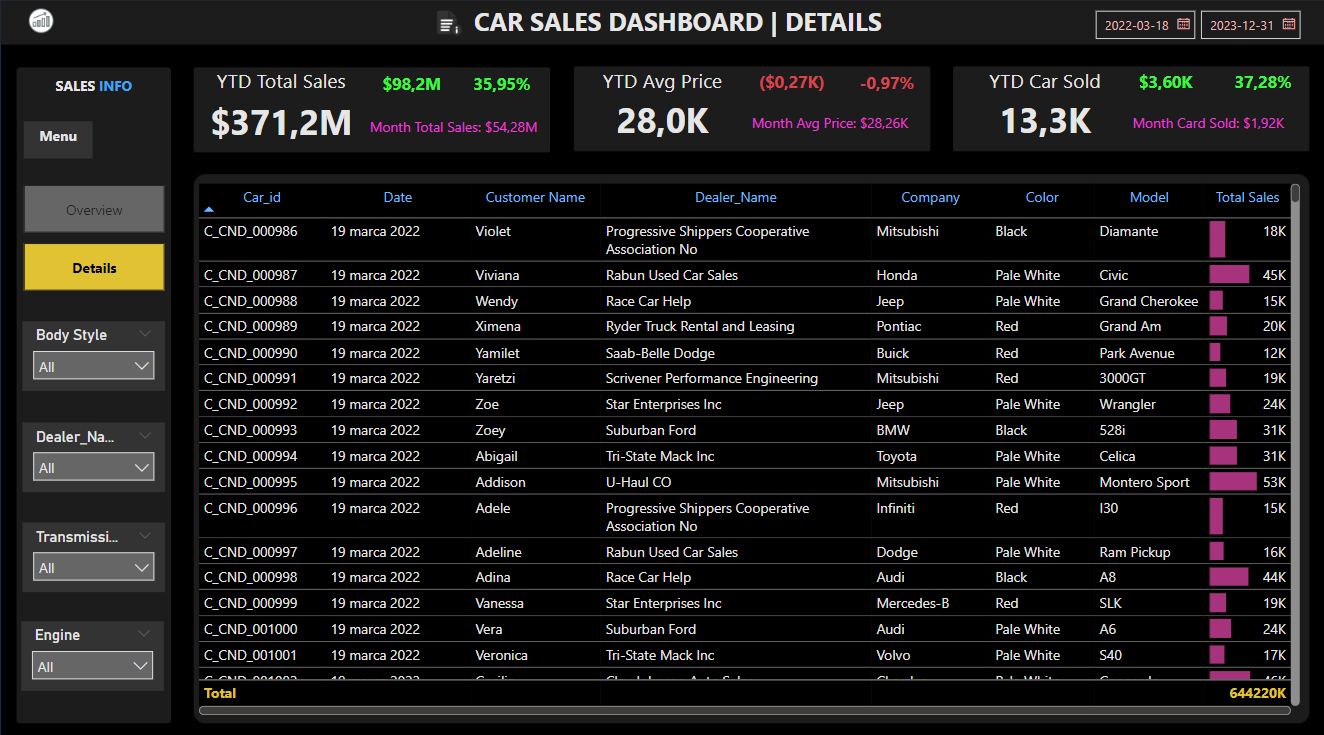

Layout of this report page (visuals, bound fields, positions):
{"tool":"powerbi","page":{"name":"Details","canvas":[1280,720],"ordinal":1},"visuals":[{"type":"card","title":"YTD Total Sales","fields":{"Values":["car_data.YTD Total Sales"]},"box":[185.8,65.1,171.3,80.8],"z":0},{"type":"card","fields":{"Values":["car_data.Sales difference"]},"box":[357.1,60.3,80.8,44.6],"z":1000},{"type":"card","fields":{"Values":["car_data.YoY Sales Growth"]},"box":[447.6,65.1,73.6,36.2],"z":2000},{"type":"card","fields":{"Values":["car_data.MTD KPI"]},"box":[346.2,103.8,183.4,42.2],"z":3000},{"type":"card","title":"YTD Avg Price","fields":{"Values":["car_data.YTD Avg Price"]},"box":[555,65.1,168.9,77.2],"z":4000},{"type":"card","fields":{"Values":["car_data.AVG Price Diff"]},"box":[723.9,59.1,80.8,44.6],"z":5000},{"type":"card","fields":{"Values":["car_data.YoY Avg Price Growth"]},"box":[819.2,63.9,73.6,36.2],"z":6000},{"type":"card","fields":{"Values":["car_data.MTD Avg Price KPI"]},"box":[709.4,100.1,183.4,42.2],"z":7000},{"type":"card","title":"YTD Car Sold","fields":{"Values":["car_data.YTD Car Sold"]},"box":[924.1,65.1,168.9,77.2],"z":8000},{"type":"card","fields":{"Values":["car_data.Car Sold Diff"]},"box":[1084.6,59.1,80.8,44.6],"z":9000},{"type":"card","fields":{"Values":["car_data.YoY Car Sold Growth"]},"box":[1178.7,59.1,80.8,44.6],"z":10000},{"type":"textbox","box":[452.5,0,438.8,52.5],"z":11000},{"type":"tableEx","fields":{"Values":["car_data.Car_id","car_data.Date","car_data.Customer Name","car_data.Dealer_Name","car_data.Company","car_data.Color","car_data.Model","car_data.Total Sales"]},"box":[186.2,172.5,1073.8,522.5],"z":12000},{"type":"card","fields":{"Values":["car_data.MTD Car Sold KPI"]},"box":[1075,100,182.5,42.5],"z":13000},{"type":"slicer","fields":{"Values":["car_data.Body Style"]},"box":[21.3,310,137.5,67.5],"z":14000},{"type":"slicer","fields":{"Values":["car_data.Dealer_Name"]},"box":[21.3,407.5,137.5,67.5],"z":15000},{"type":"slicer","fields":{"Values":["car_data.Transmission"]},"box":[21.3,503.8,137.5,67.5],"z":16000},{"type":"slicer","fields":{"Values":["car_data.Engine"]},"box":[20.2,599.2,137.5,67.5],"z":17000},{"type":"textbox","box":[22.7,116.7,66.2,36.2],"z":18000},{"type":"pageNavigator","box":[22.7,178,136.2,102.5],"z":19000},{"type":"textbox","box":[22.5,68.8,135,36.2],"z":20000},{"type":"slicer","fields":{"Values":["car_data.Date"]},"box":[1045,0,226.2,40],"z":21000},{"type":"image","box":[22.5,0,33.8,40],"z":22000},{"type":"image","box":[415,0,37.5,43.8],"z":23000}]}

Visuals, with their boxes in screenshot pixels (x1, y1, x2, y2), scaled from the page's 1280x720 canvas onto the 1324x735 screenshot:
"YTD Total Sales" card: 192, 66, 369, 149
card - car_data.Sales difference: 369, 62, 453, 107
card - car_data.YoY Sales Growth: 463, 66, 539, 103
card - car_data.MTD KPI: 358, 106, 548, 149
"YTD Avg Price" card: 574, 66, 749, 145
card - car_data.AVG Price Diff: 749, 60, 832, 106
card - car_data.YoY Avg Price Growth: 847, 65, 923, 102
card - car_data.MTD Avg Price KPI: 734, 102, 923, 145
"YTD Car Sold" card: 956, 66, 1131, 145
card - car_data.Car Sold Diff: 1122, 60, 1205, 106
card - car_data.YoY Car Sold Growth: 1219, 60, 1303, 106
textbox: 468, 0, 922, 54
tableEx - car_data.Car_id x car_data.Date: 193, 176, 1303, 709
card - car_data.MTD Car Sold KPI: 1112, 102, 1301, 145
slicer - car_data.Body Style: 22, 316, 164, 385
slicer - car_data.Dealer_Name: 22, 416, 164, 485
slicer - car_data.Transmission: 22, 514, 164, 583
slicer - car_data.Engine: 21, 612, 163, 681
textbox: 23, 119, 92, 156
pageNavigator: 23, 182, 164, 286
textbox: 23, 70, 163, 107
slicer - car_data.Date: 1081, 0, 1315, 41
image: 23, 0, 58, 41
image: 429, 0, 468, 45
